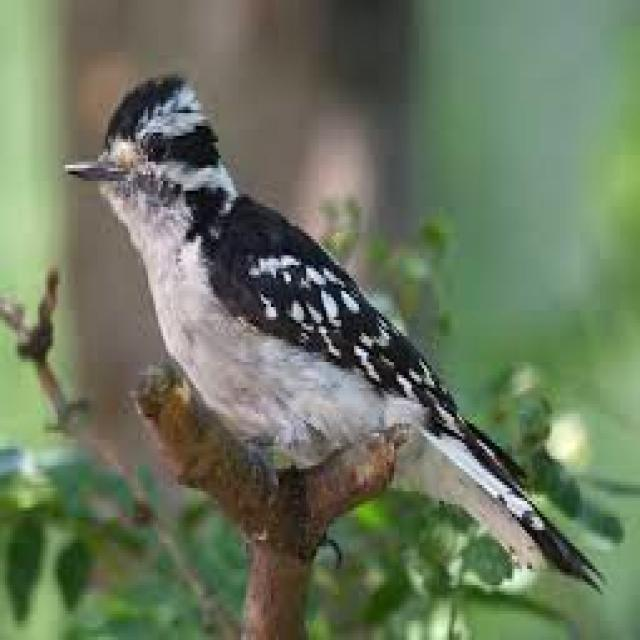woodpecker: (68, 74, 600, 582)
